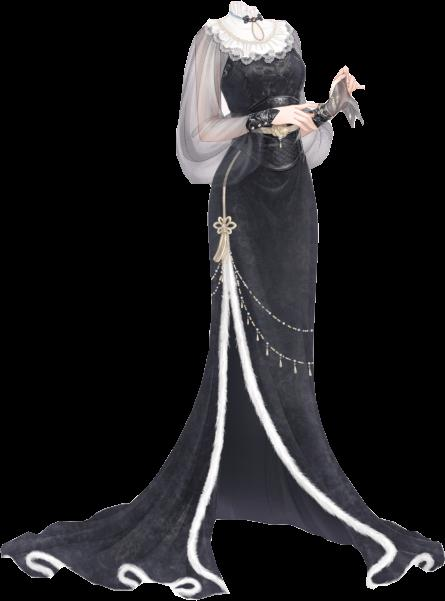Bodice: (198, 0, 305, 138)
Hemline: (0, 240, 444, 600), (232, 134, 305, 171)
Neckline: (232, 91, 300, 125), (216, 18, 278, 45), (230, 1, 259, 16)
Skirt: (1, 129, 443, 600)
Sleeve: (176, 29, 263, 187)
Sleeveline: (199, 26, 230, 82)
Waistline: (234, 126, 300, 140)
